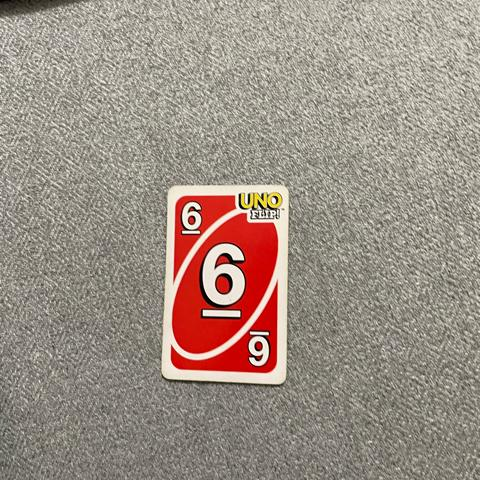lred-6: (173, 194, 210, 241)
